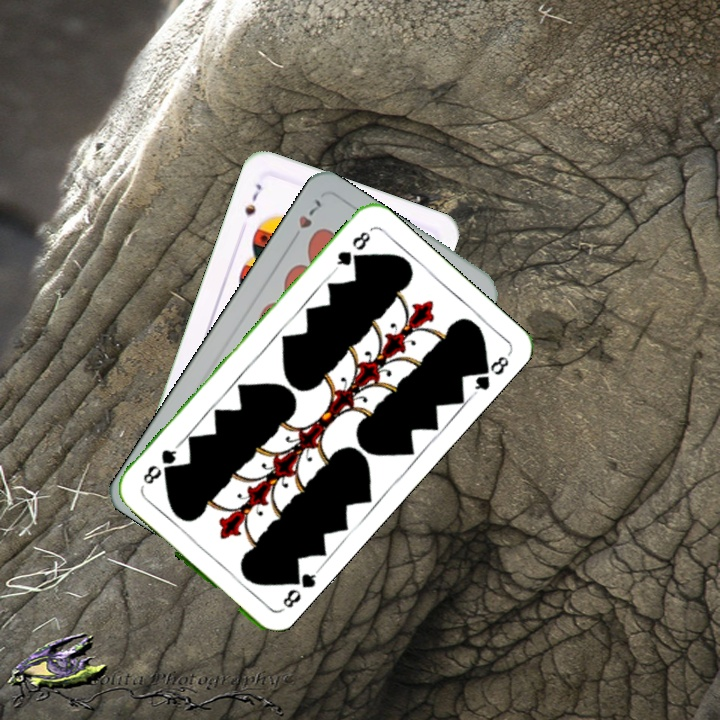G8: (276, 566, 321, 615), (330, 227, 373, 274)
H7: (288, 194, 324, 246)
S7: (240, 179, 265, 218)
